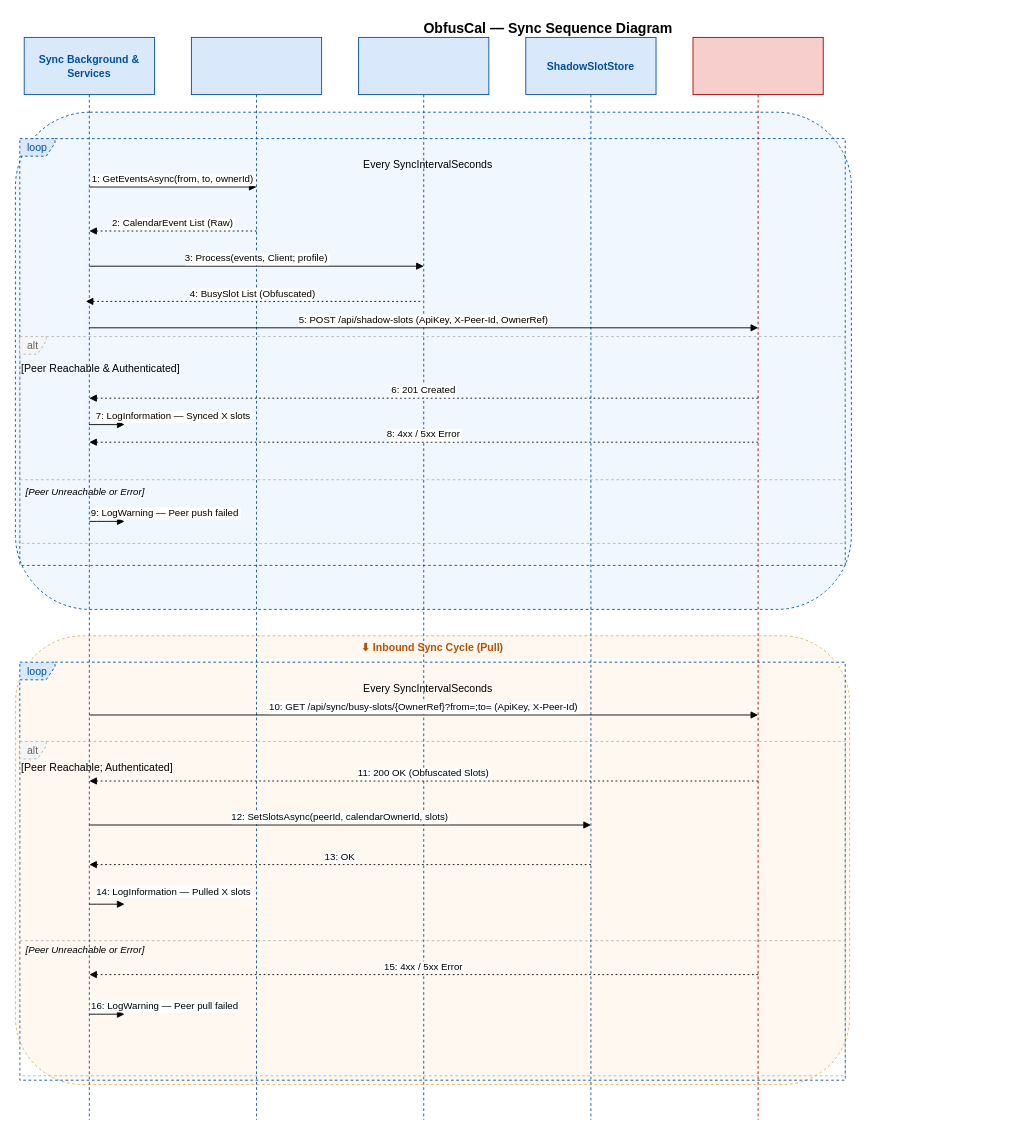
The diagram is 1025 pixels wide and 1135 high, and some of its shapes have lost their labels. The shapes that lost their labels are listed below. From the top down, each one's box as (x1, y1, x2, y2) in pixels, then its label:
(15, 111, 851, 609): ⬆ Outbound Sync Cycle (Push)
(191, 37, 322, 1120): ICalendarSource
(358, 37, 489, 1120): ObfuscationPipeline
(692, 37, 823, 1120): Peer Instance
